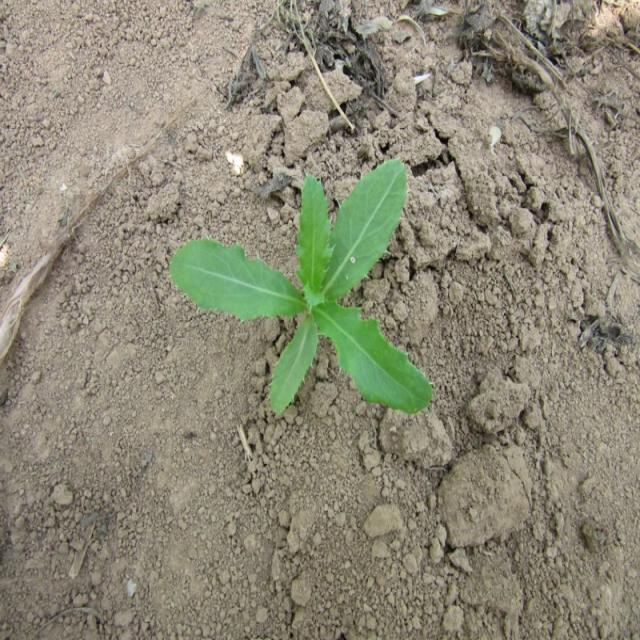cs: (163, 153, 434, 428)
